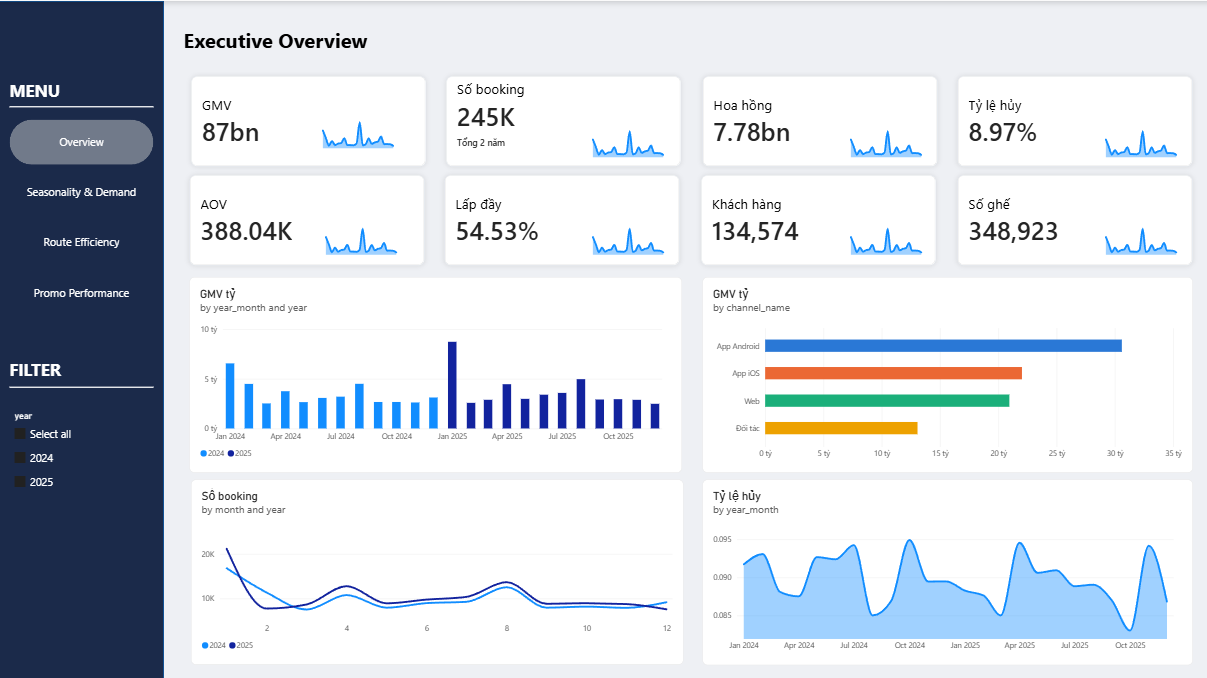

Layout of this report page (visuals, bound fields, positions):
{"tool":"powerbi","page":{"name":"Overview","canvas":[1920,1080],"ordinal":0},"visuals":[{"type":"cardVisual","fields":{"Data":["Measure table.GMV"]},"box":[306,120,374,144],"z":0},{"type":"areaChart","fields":{"Category":["dim_date.year_month"],"Y":["Measure Table.GMV"]},"box":[488.6,162.9,164,88],"z":1000},{"type":"shape","box":[0,0,263.5,1080],"z":2000},{"type":"textbox","box":[294.3,41.2,329.3,63.8],"z":3000},{"type":"cardVisual","fields":{"Data":["Measure Table.Số booking"]},"box":[712,120,374,144],"z":4000},{"type":"cardVisual","fields":{"Data":["Measure Table.Hoa hồng"]},"box":[1118,120,374,144],"z":5000},{"type":"cardVisual","fields":{"Data":["Measure Table.Tỷ lệ hủy"]},"box":[1524,120,374,144],"z":6000},{"type":"areaChart","fields":{"Category":["dim_date.year_month"],"Y":["Measure Table.GMV"]},"box":[918,176,164,88],"z":7000},{"type":"areaChart","fields":{"Category":["dim_date.year_month"],"Y":["Measure Table.GMV"]},"box":[1328,176,164,88],"z":8000},{"type":"cardVisual","fields":{"Data":["Measure Table.AOV"]},"box":[302.2,276.9,374,144],"z":9000},{"type":"cardVisual","fields":{"Data":["Measure Table.Lấp đầy"]},"box":[707.6,276.9,374,144],"z":10000},{"type":"cardVisual","fields":{"Data":["Measure Table.Khách hàng"]},"box":[1116.6,276.9,374,144],"z":11000},{"type":"cardVisual","fields":{"Data":["Measure Table.Số ghế"]},"box":[1523.7,276.9,374,144],"z":12000},{"type":"columnChart","fields":{"Category":["dim_date.year_month"],"Series":["dim_date.year"],"Y":["Measure Table.GMV tỷ"]},"box":[302.2,437.9,783.6,311.3],"z":13000},{"type":"clusteredBarChart","fields":{"Category":["dim_channel.channel_name"],"Y":["Measure Table.GMV tỷ"]},"box":[1118.4,437.9,780,311.3],"z":14000},{"type":"lineChart","fields":{"Category":["dim_date.month"],"Series":["dim_date.year"],"Y":["Measure Table.Số booking"]},"box":[305.8,761.9,783.6,295],"z":15000},{"type":"areaChart","fields":{"Category":["dim_date.year_month"],"Y":["Measure Table.Tỷ lệ hủy"]},"box":[1118,762,780,295],"z":16000},{"type":"pageNavigator","box":[40.6,205.2,182.8,394.5],"z":16001},{"type":"image","box":[19.1,35.8,226.7,121.7],"z":16002},{"type":"areaChart","fields":{"Category":["dim_date.year_month"],"Y":["Measure Table.GMV"]},"box":[1734,176,164,88],"z":16003},{"type":"areaChart","fields":{"Category":["dim_date.year_month"],"Y":["Measure Table.GMV"]},"box":[1328,332,164,88],"z":16004},{"type":"areaChart","fields":{"Category":["dim_date.year_month"],"Y":["Measure Table.GMV"]},"box":[1734,332,164,88],"z":16005},{"type":"areaChart","fields":{"Category":["dim_date.year_month"],"Y":["Measure Table.GMV"]},"box":[918,332,164,88],"z":16006},{"type":"areaChart","fields":{"Category":["dim_date.year_month"],"Y":["Measure Table.GMV"]},"box":[494,332,164,88],"z":16007}]}

Visuals, with their boxes in screenshot pixels (x1, y1, x2, y2), scaled from the page's 1920x1080 canvas onto the 1207x678 screenshot:
cardVisual - Measure table.GMV: bbox=(192, 75, 427, 166)
areaChart - dim_date.year_month x Measure Table.GMV: bbox=(307, 102, 410, 158)
shape: bbox=(0, 0, 166, 677)
textbox: bbox=(185, 26, 392, 66)
cardVisual - Measure Table.Số booking: bbox=(448, 75, 683, 166)
cardVisual - Measure Table.Hoa hồng: bbox=(703, 75, 938, 166)
cardVisual - Measure Table.Tỷ lệ hủy: bbox=(958, 75, 1193, 166)
areaChart - dim_date.year_month x Measure Table.GMV: bbox=(577, 110, 680, 166)
areaChart - dim_date.year_month x Measure Table.GMV: bbox=(835, 110, 938, 166)
cardVisual - Measure Table.AOV: bbox=(190, 174, 425, 264)
cardVisual - Measure Table.Lấp đầy: bbox=(445, 174, 680, 264)
cardVisual - Measure Table.Khách hàng: bbox=(702, 174, 937, 264)
cardVisual - Measure Table.Số ghế: bbox=(958, 174, 1193, 264)
columnChart - dim_date.year_month x dim_date.year: bbox=(190, 275, 683, 470)
clusteredBarChart - dim_channel.channel_name x Measure Table.GMV tỷ: bbox=(703, 275, 1193, 470)
lineChart - dim_date.month x dim_date.year: bbox=(192, 478, 685, 663)
areaChart - dim_date.year_month x Measure Table.Tỷ lệ hủy: bbox=(703, 478, 1193, 664)
pageNavigator: bbox=(26, 129, 140, 376)
image: bbox=(12, 22, 155, 99)
areaChart - dim_date.year_month x Measure Table.GMV: bbox=(1090, 110, 1193, 166)
areaChart - dim_date.year_month x Measure Table.GMV: bbox=(835, 208, 938, 264)
areaChart - dim_date.year_month x Measure Table.GMV: bbox=(1090, 208, 1193, 264)
areaChart - dim_date.year_month x Measure Table.GMV: bbox=(577, 208, 680, 264)
areaChart - dim_date.year_month x Measure Table.GMV: bbox=(311, 208, 414, 264)
